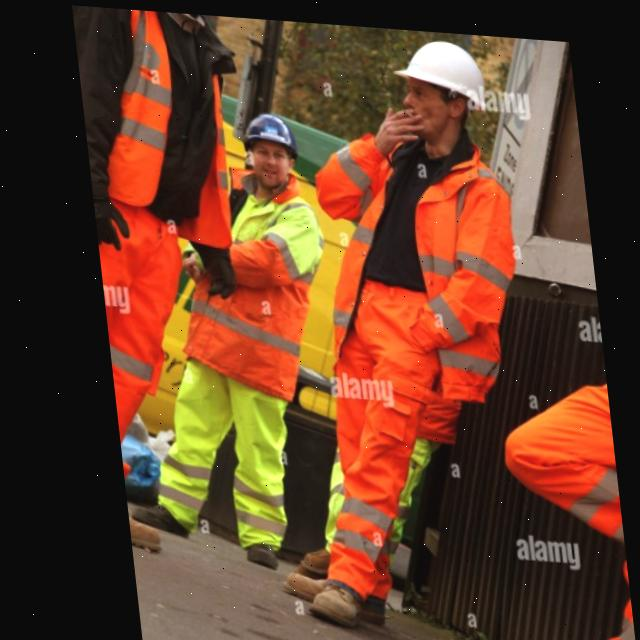cigarette: (402, 104, 411, 111)
